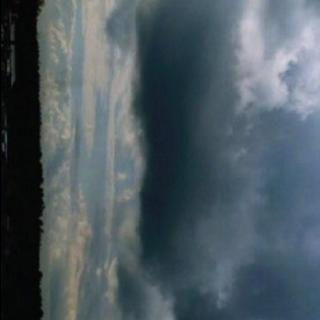Stratocumulus: (43, 0, 320, 320)
